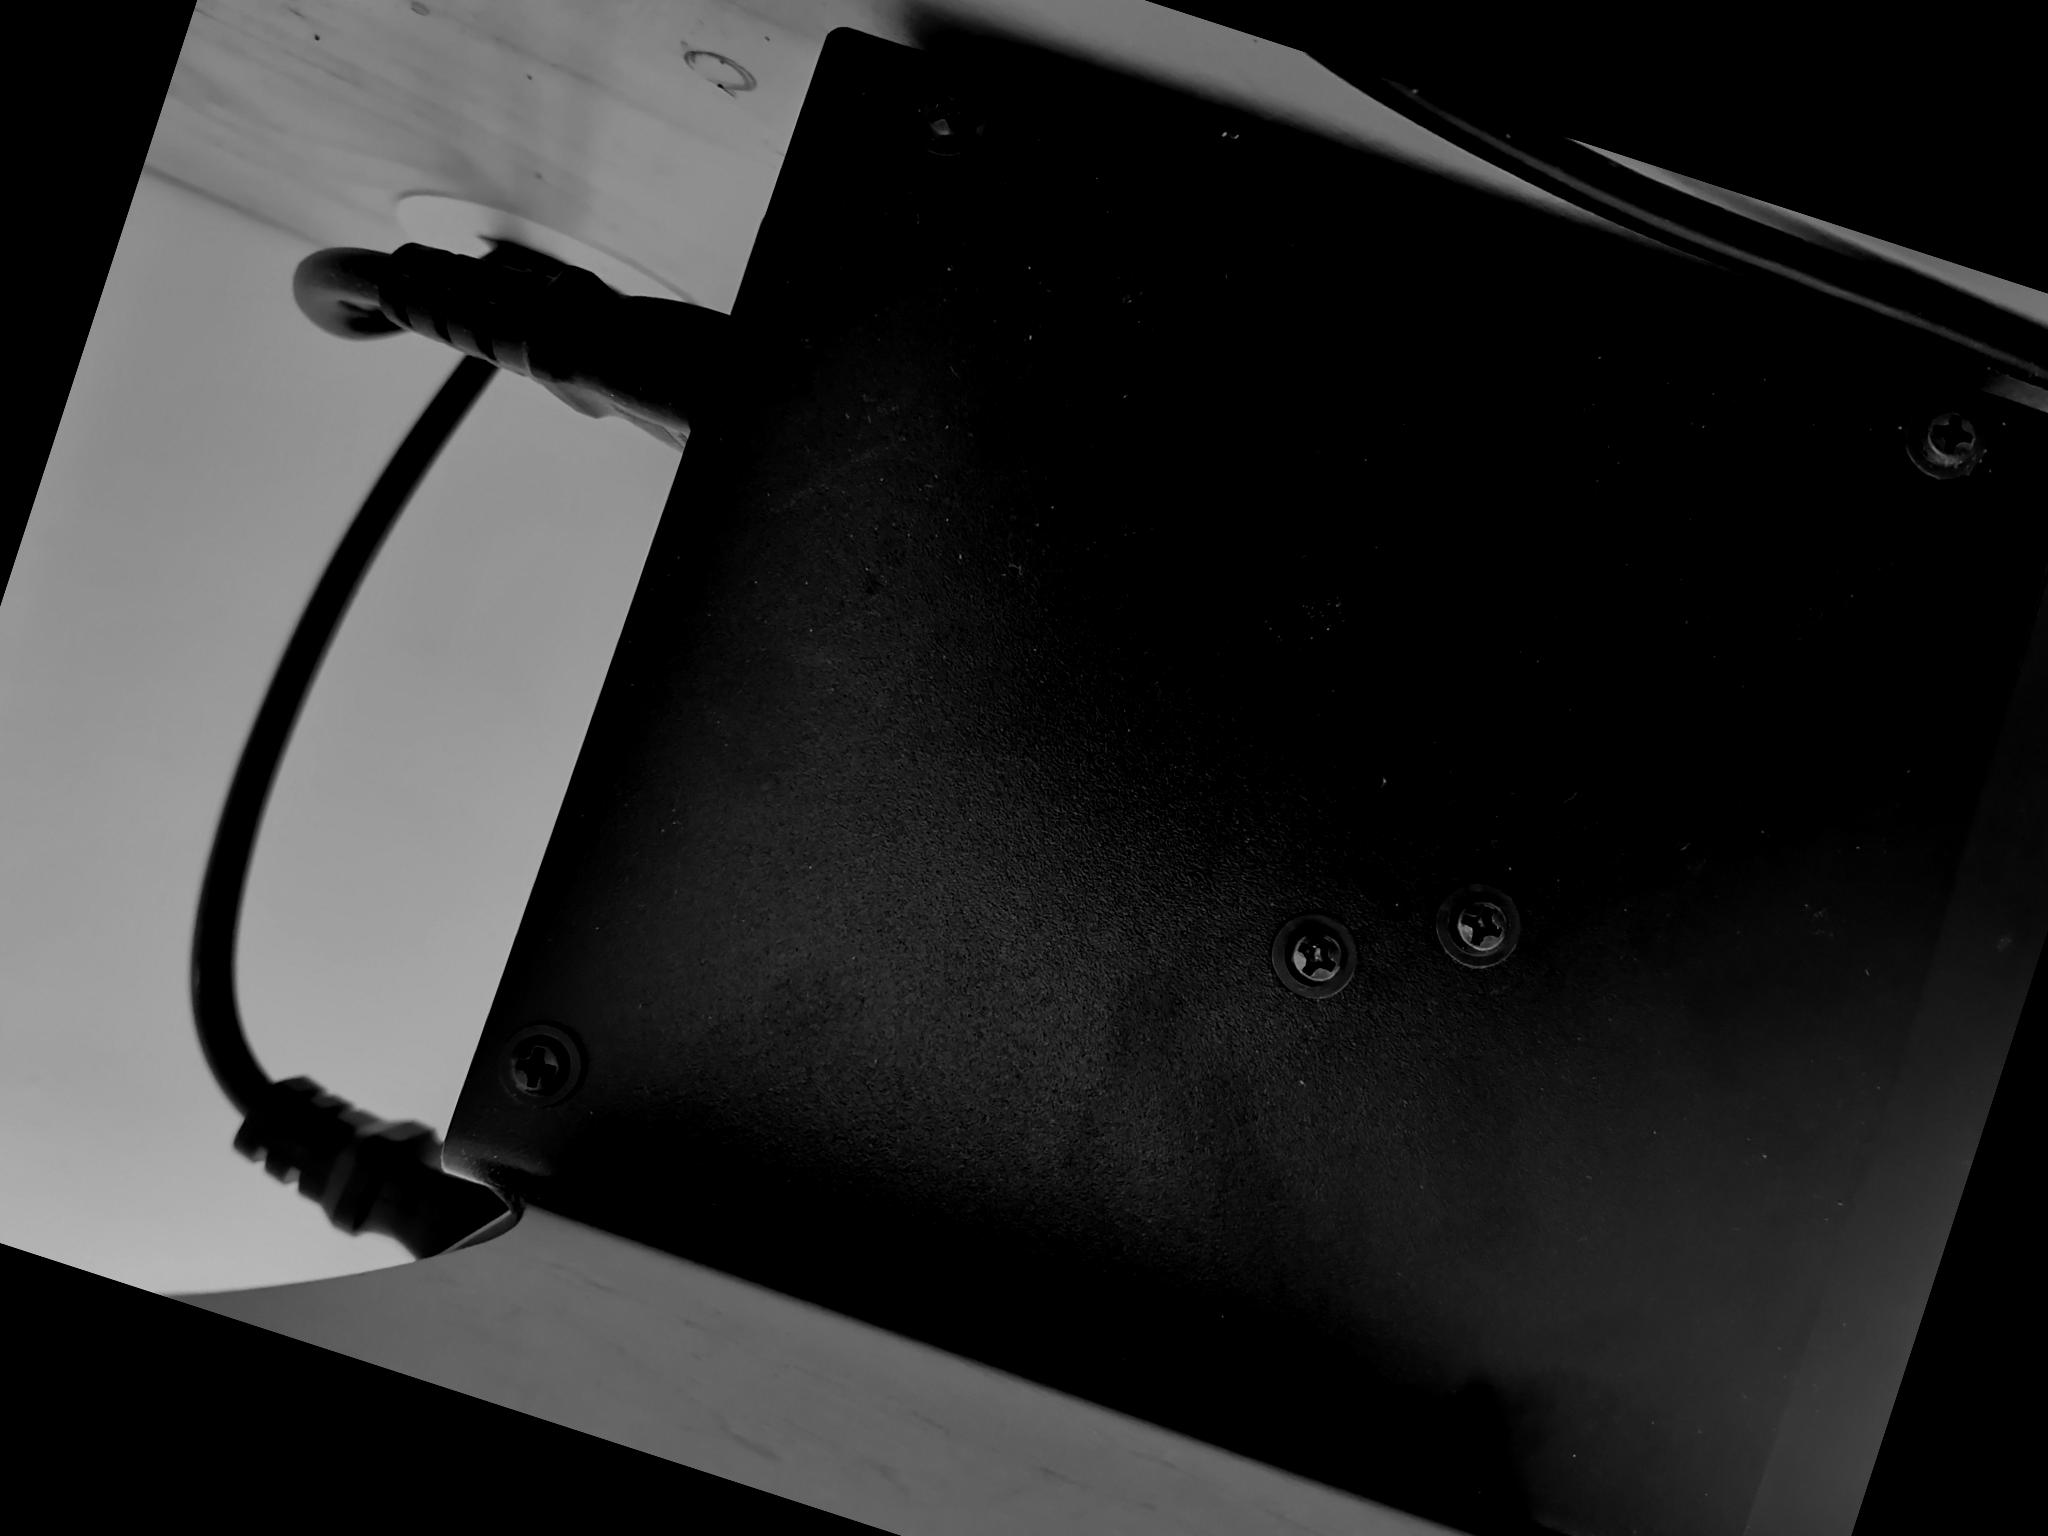screw: (1416, 862, 1538, 984), (1255, 897, 1372, 1015), (484, 1008, 601, 1120), (1888, 382, 2001, 495), (893, 55, 1006, 165)
